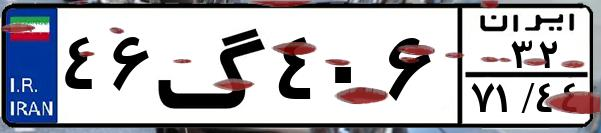0: (330, 28, 385, 110)
1: (495, 70, 520, 125)
2: (537, 27, 568, 80)
3: (508, 27, 537, 80)
4: (270, 28, 330, 110), (57, 26, 110, 100), (560, 70, 590, 125), (535, 70, 560, 125)
6: (385, 28, 445, 110), (110, 28, 156, 98)
7: (470, 70, 495, 125)
گ: (156, 12, 270, 120)
